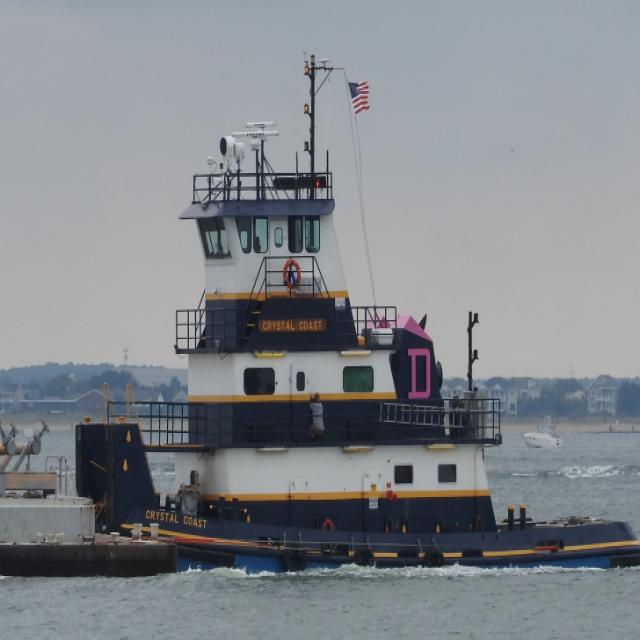tugboat: (69, 51, 640, 589)
